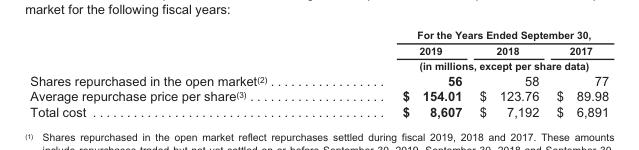table: (29, 28, 608, 118)
table column: (29, 28, 334, 118), (334, 28, 470, 118), (470, 28, 547, 118), (547, 28, 608, 118)
table column header: (29, 28, 608, 72)
table row: (29, 87, 608, 103), (29, 42, 608, 57), (29, 57, 608, 72), (29, 72, 608, 87), (29, 103, 608, 118), (29, 28, 608, 42)
table spanning cell: (334, 57, 608, 72), (334, 28, 608, 42)
